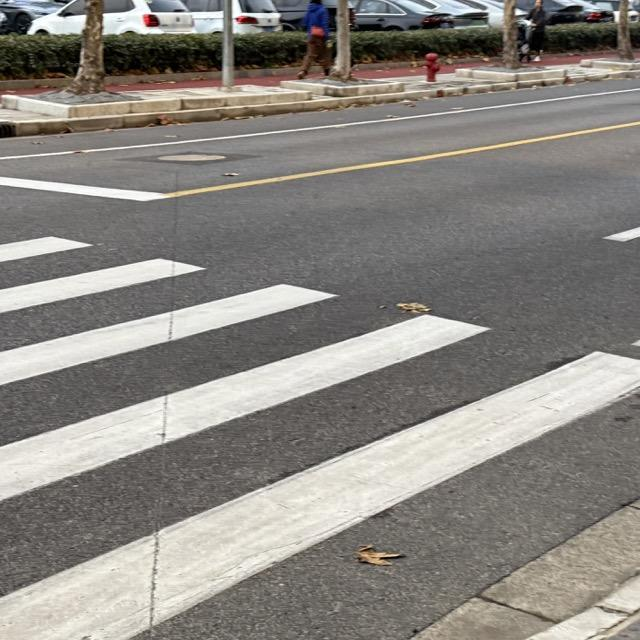curb: (0, 69, 640, 138), (0, 91, 310, 117), (526, 574, 639, 639), (281, 82, 405, 97), (105, 71, 220, 86), (455, 68, 567, 82), (0, 78, 69, 92), (238, 68, 298, 79), (580, 60, 640, 71), (356, 61, 412, 72), (545, 53, 600, 63), (455, 57, 498, 66)
